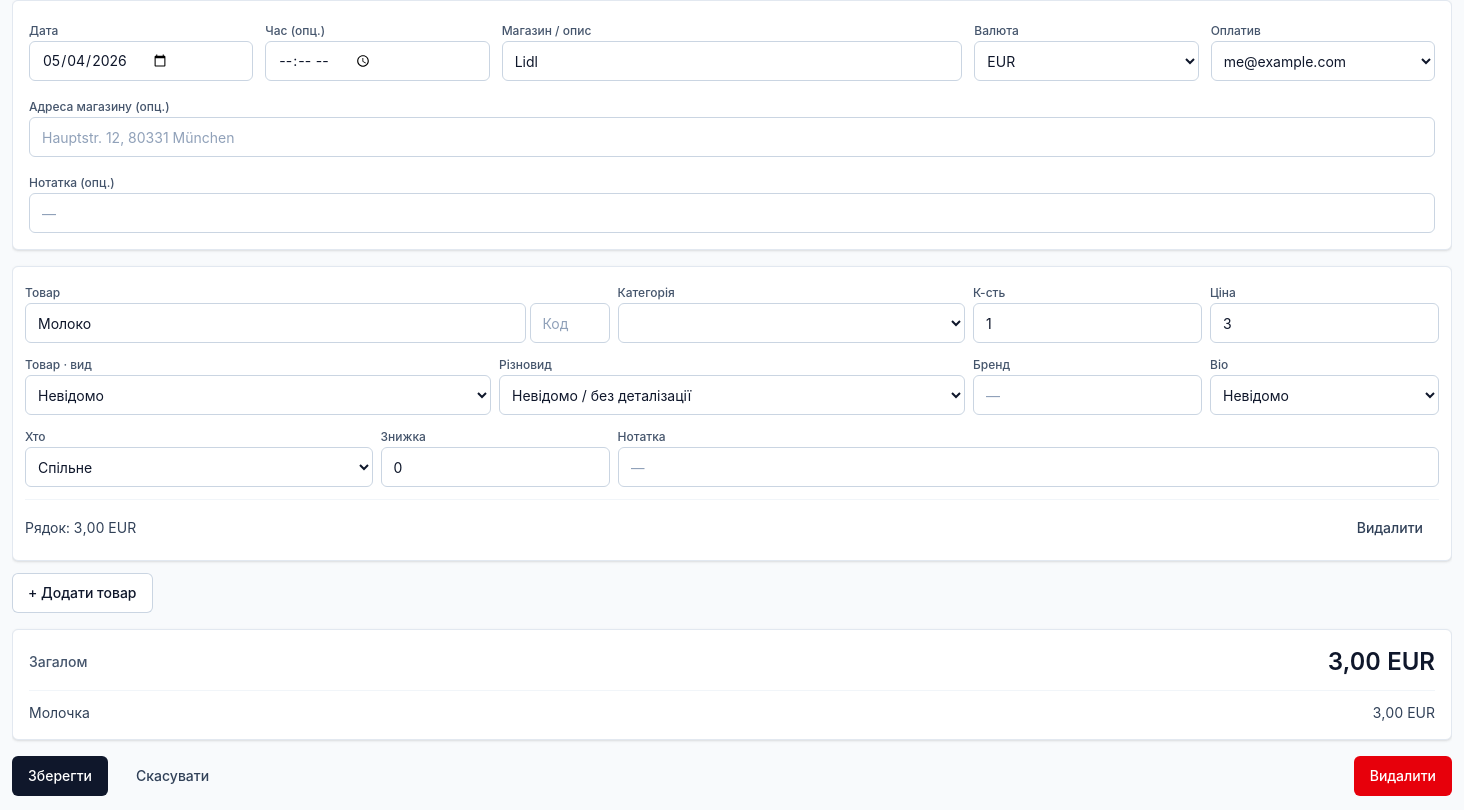
Test: EditReceiptForm leaving the page › cancel returns to the filtered list the user came from
Click the button "Скасувати" at (173, 776), box top-left (120, 756), bottom-right (225, 796)
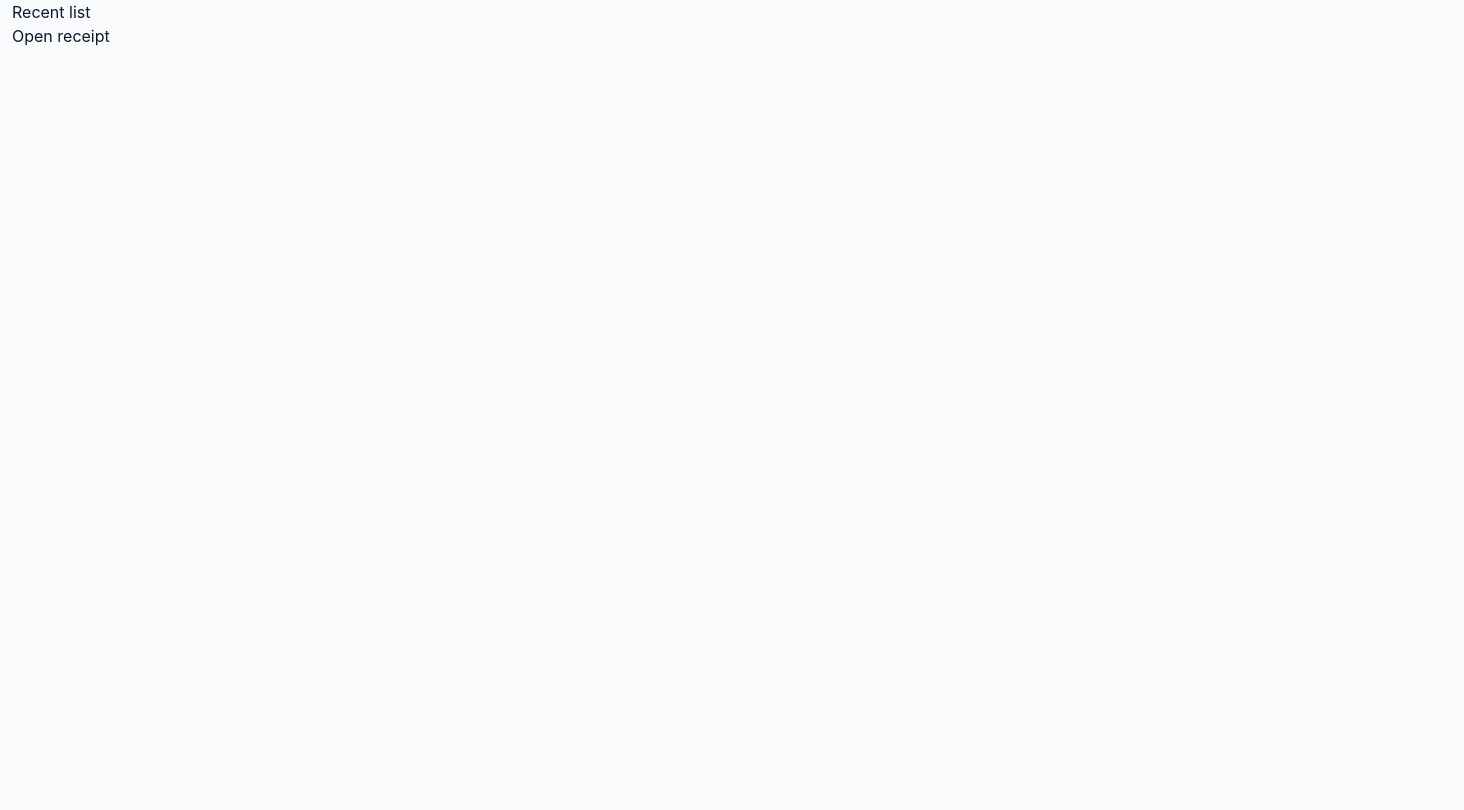
Result: the text "Recent list" is shown at top-left (12, 2), bottom-right (90, 22)
